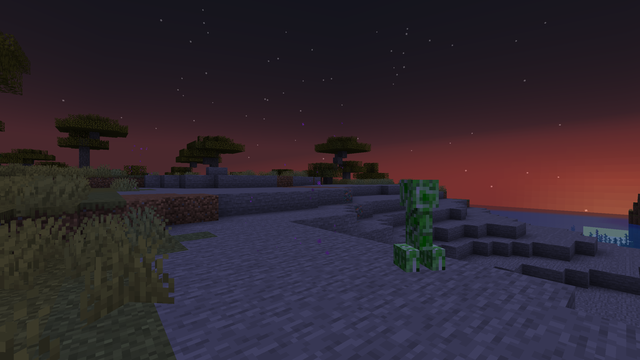creepers: (395, 175, 441, 274)
